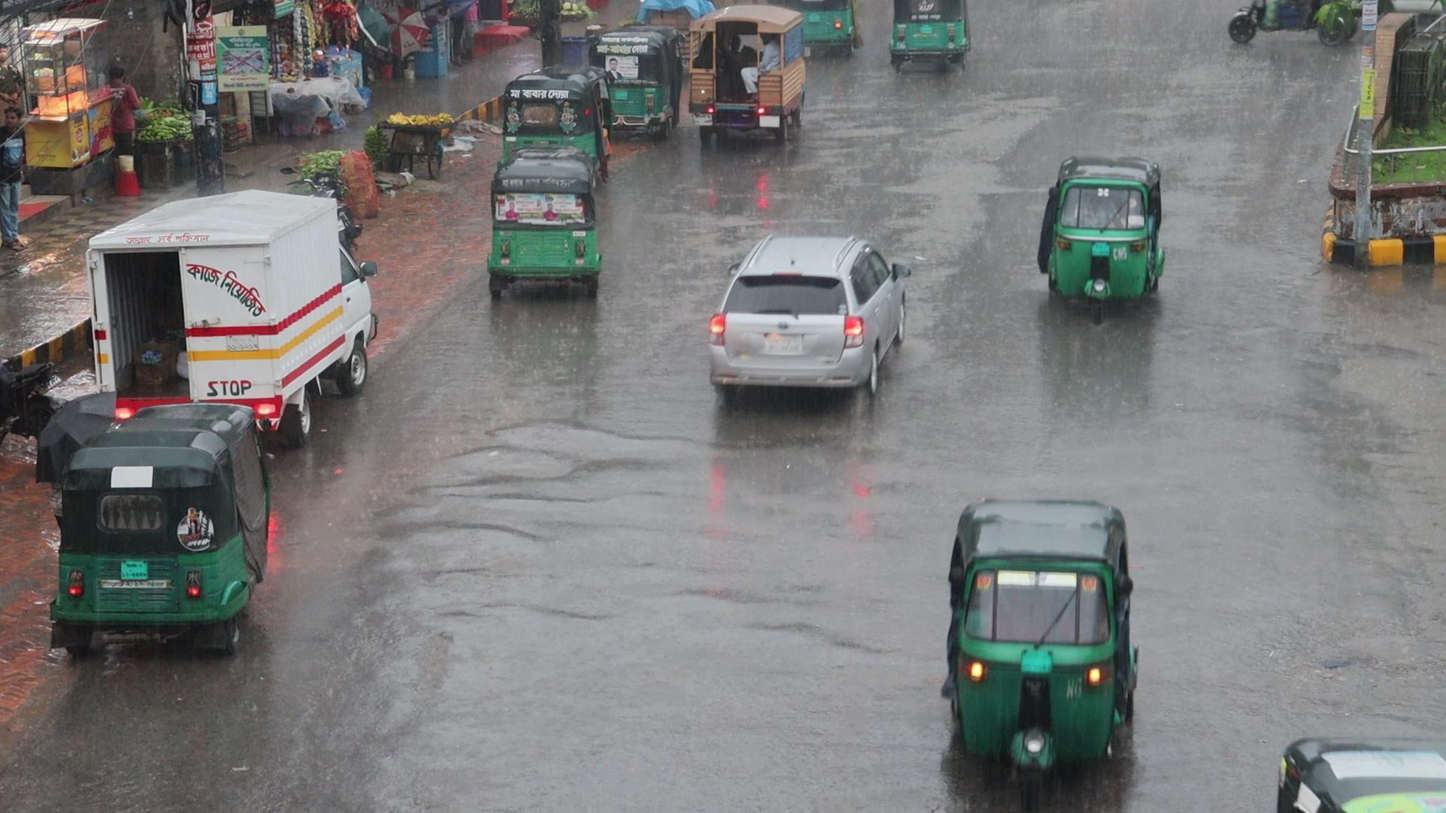Car: (706, 233, 910, 403)
Truck: (687, 5, 806, 143)
